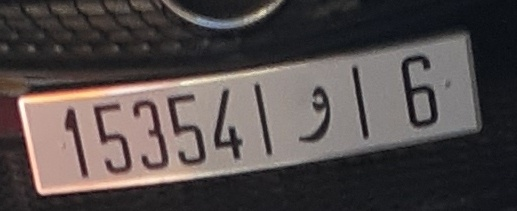1: (54, 104, 96, 184)
3: (129, 95, 171, 176)
4: (210, 85, 247, 161)
5: (92, 99, 133, 178), (166, 88, 204, 167)
6: (392, 55, 442, 130)
waw: (285, 81, 341, 146)
